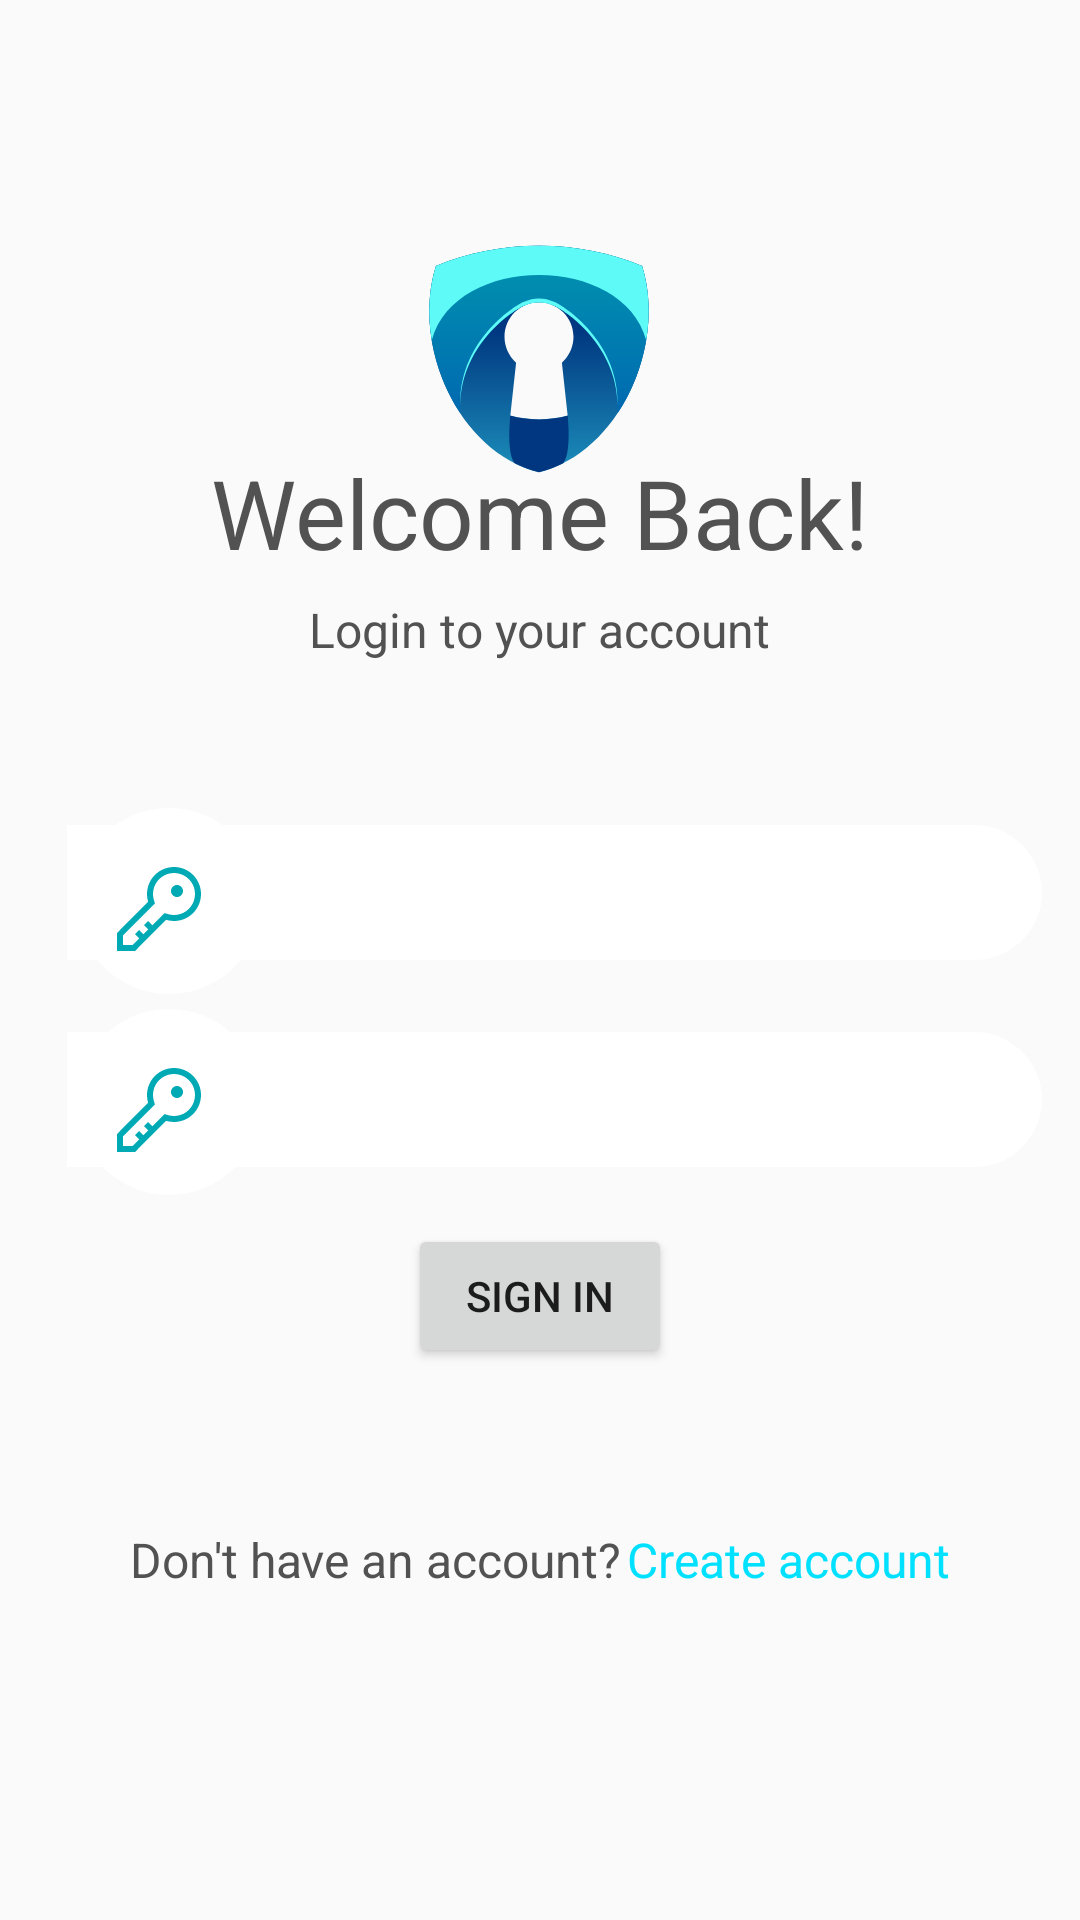

Named icons in this screenshot (1080w x 1920h) and their centers, [x,y]:
carbon password: [159,909], [159,1110]
